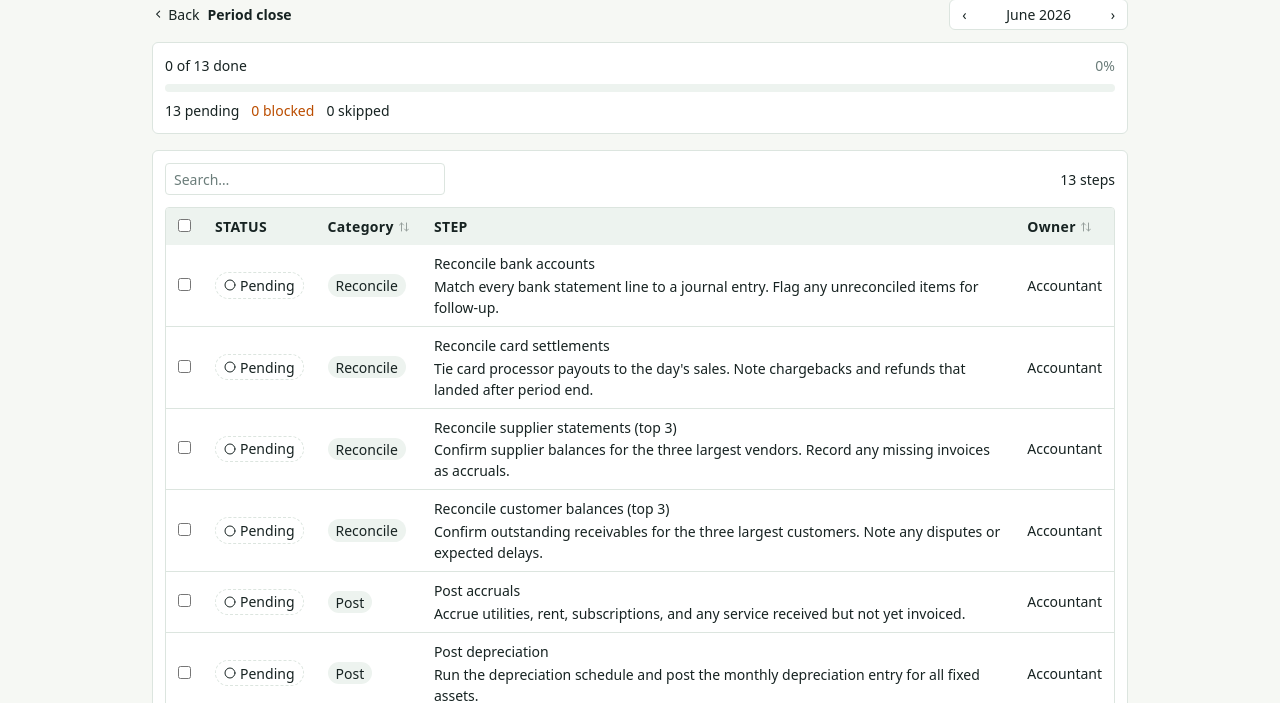
Test: period-close — Mark done updates summary + localStorage › selecting 2 rows + clicking Mark done updates summary to 2/N and writes the keys
Click the checkbox with test id "data-table-row-select-reconcile-bank": (184, 284) [178,278,191,291]
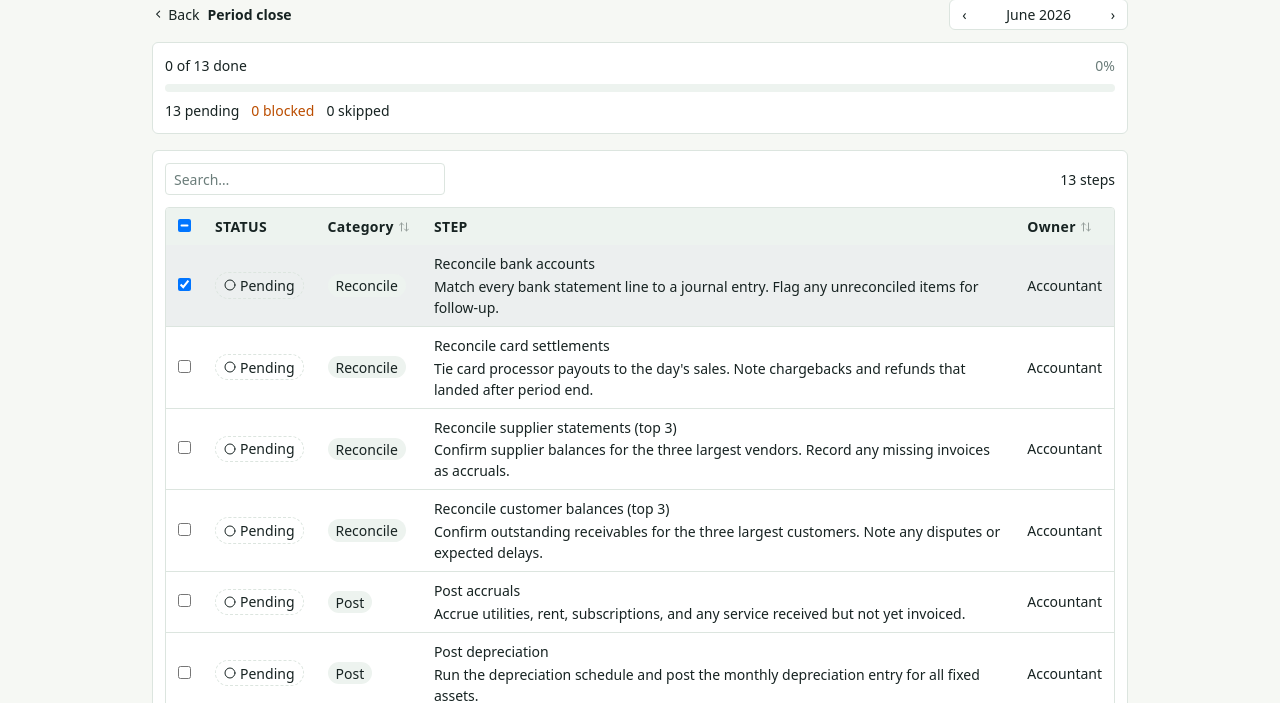
Click the checkbox with test id "data-table-row-select-reconcile-cards": (184, 366) [178,360,191,373]
(page scrolled)
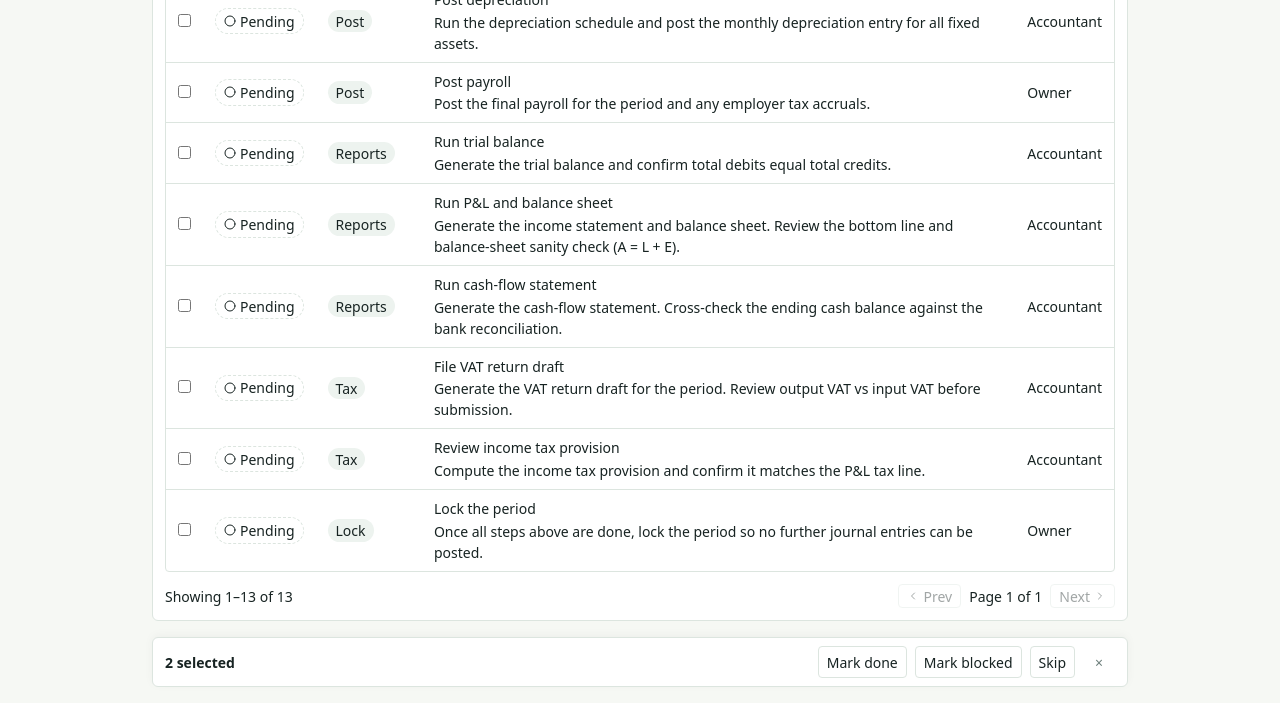
Check: the element with test id "bulk-action-bar" has attribute data-count="2", box [152,637,1128,687]
# Click "Mark done"
Click the button with test id "bulk-action-mark-done": (862, 662) [818,646,907,678]
(page scrolled)
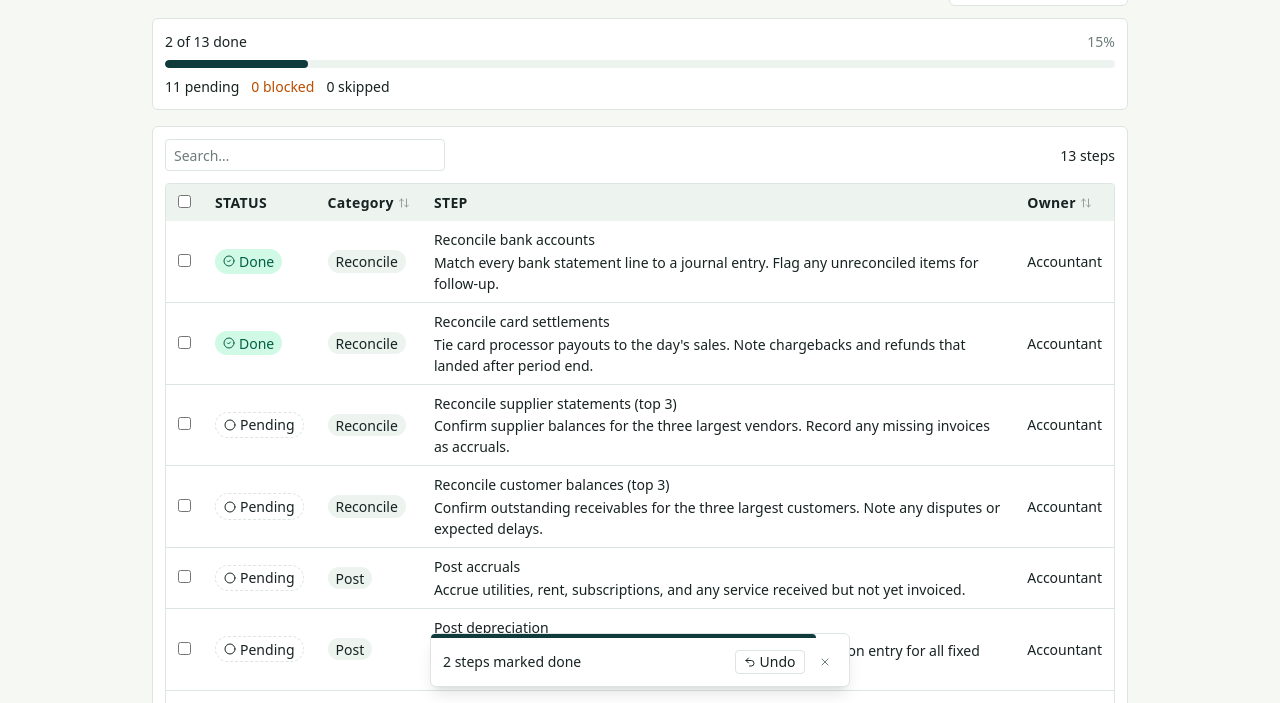
Check: the element with test id "status-pill-done" below "Reconcile bank accounts" is shown, box [215,249,282,274]
Check: the element with test id "status-pill-done" below "Reconcile card settlements" is shown, box [215,331,282,355]
